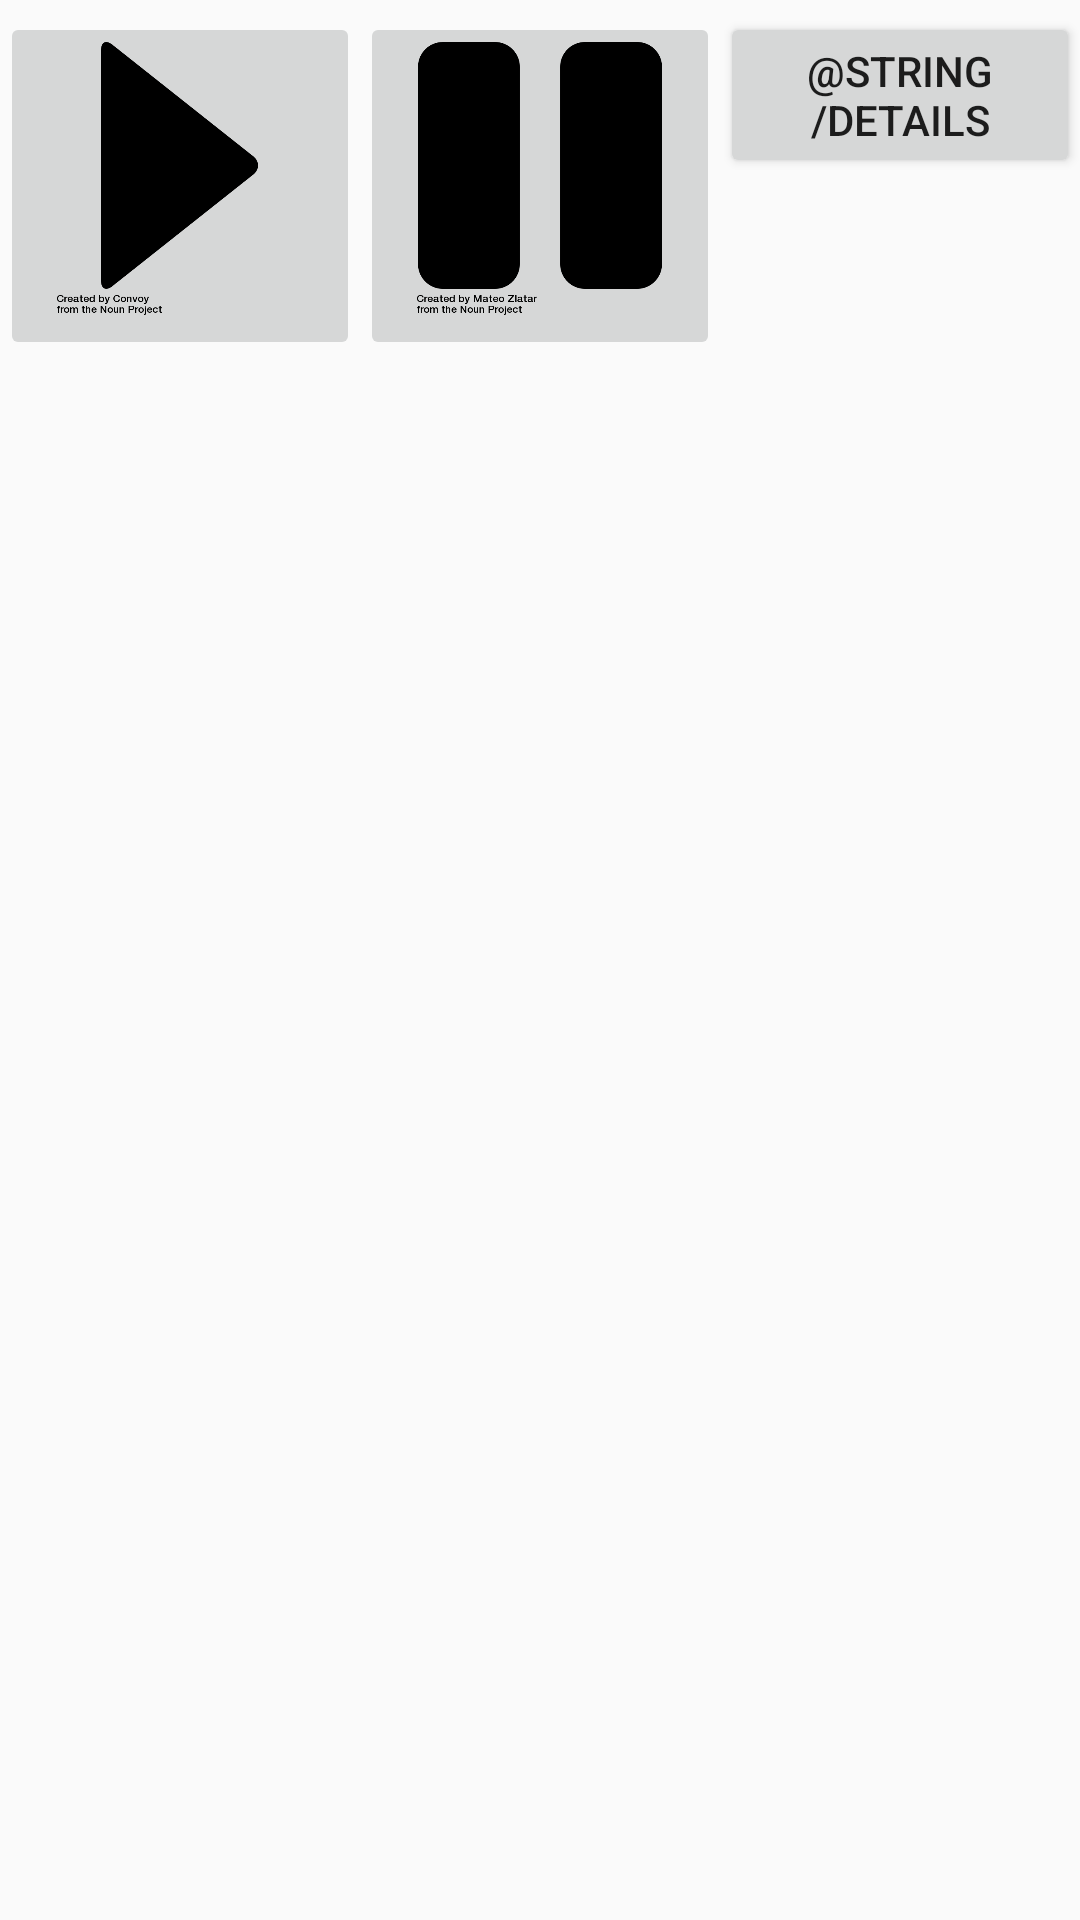

Point at icon controls on the screen. Image size 1080 × 1920, points as (x,y).
pause: (540,186)
play: (180,186)
